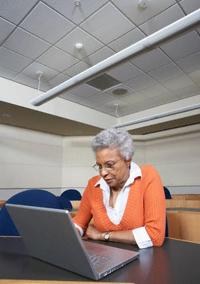person: (72, 128, 167, 251)
